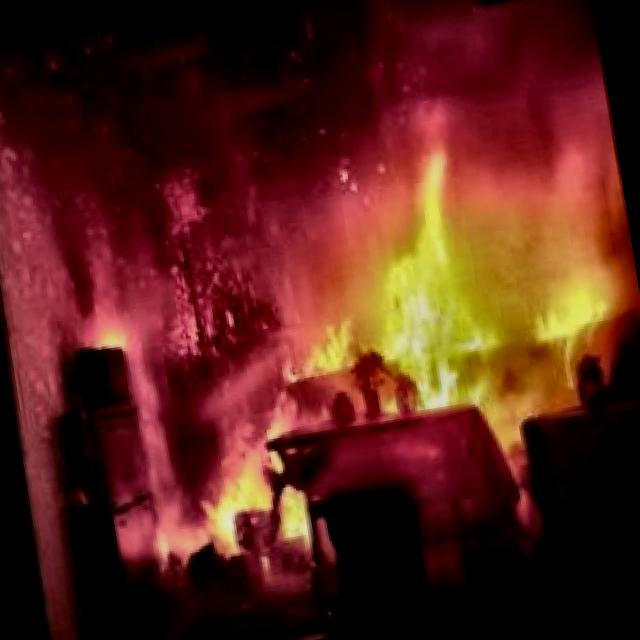fire: (92, 45, 640, 558)
